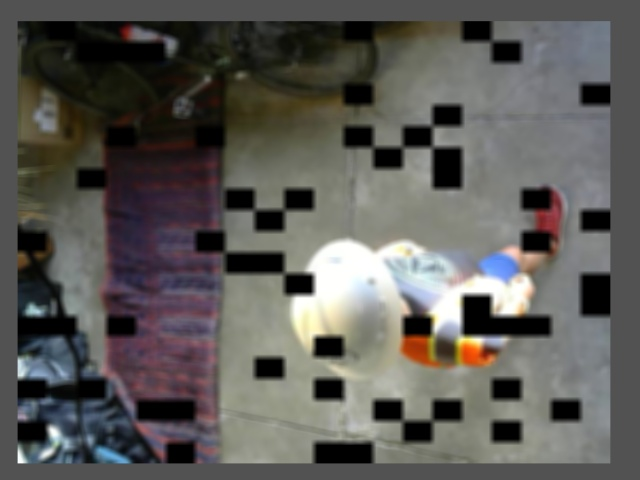eight: (309, 345, 359, 366)
